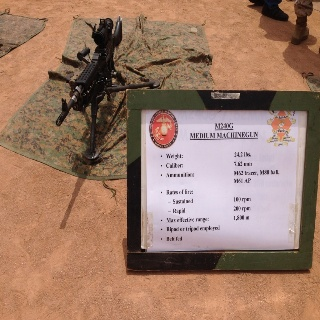rifle: (52, 17, 165, 163)
